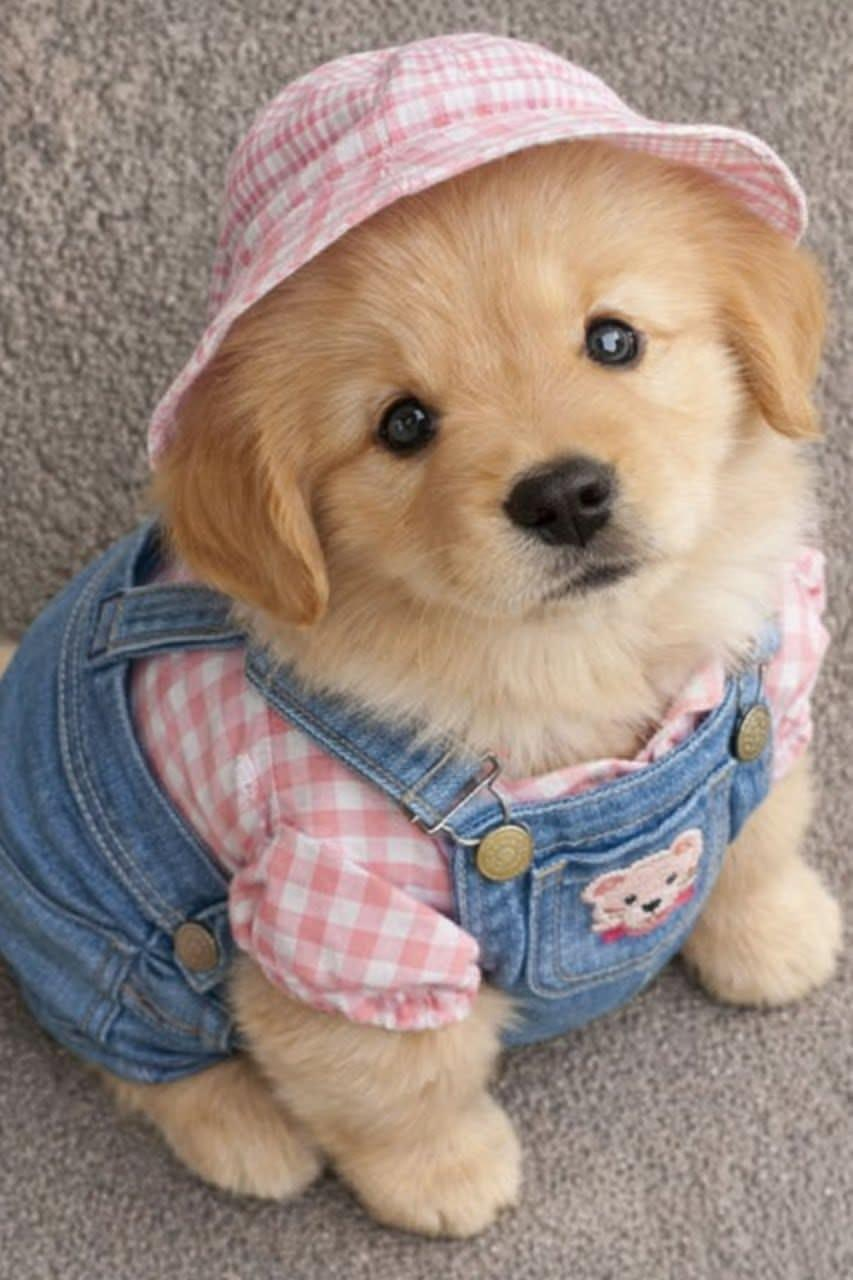puppy-dog: (0, 22, 853, 1255)
